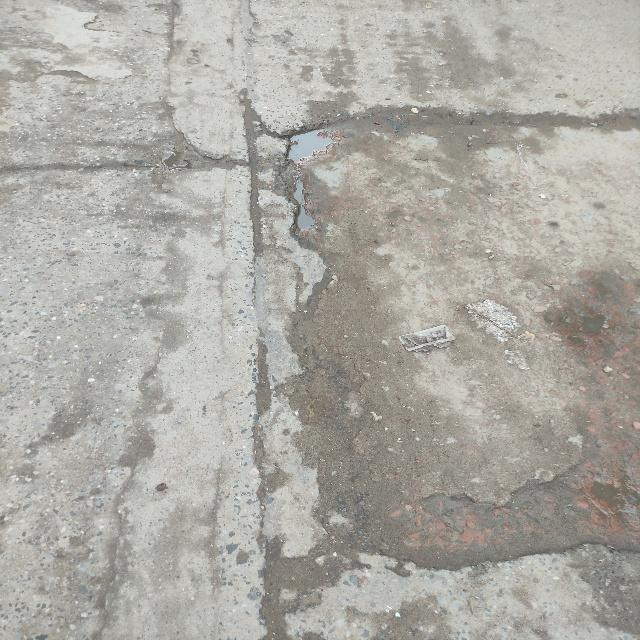Surface Erosion: (118, 6, 519, 575)
